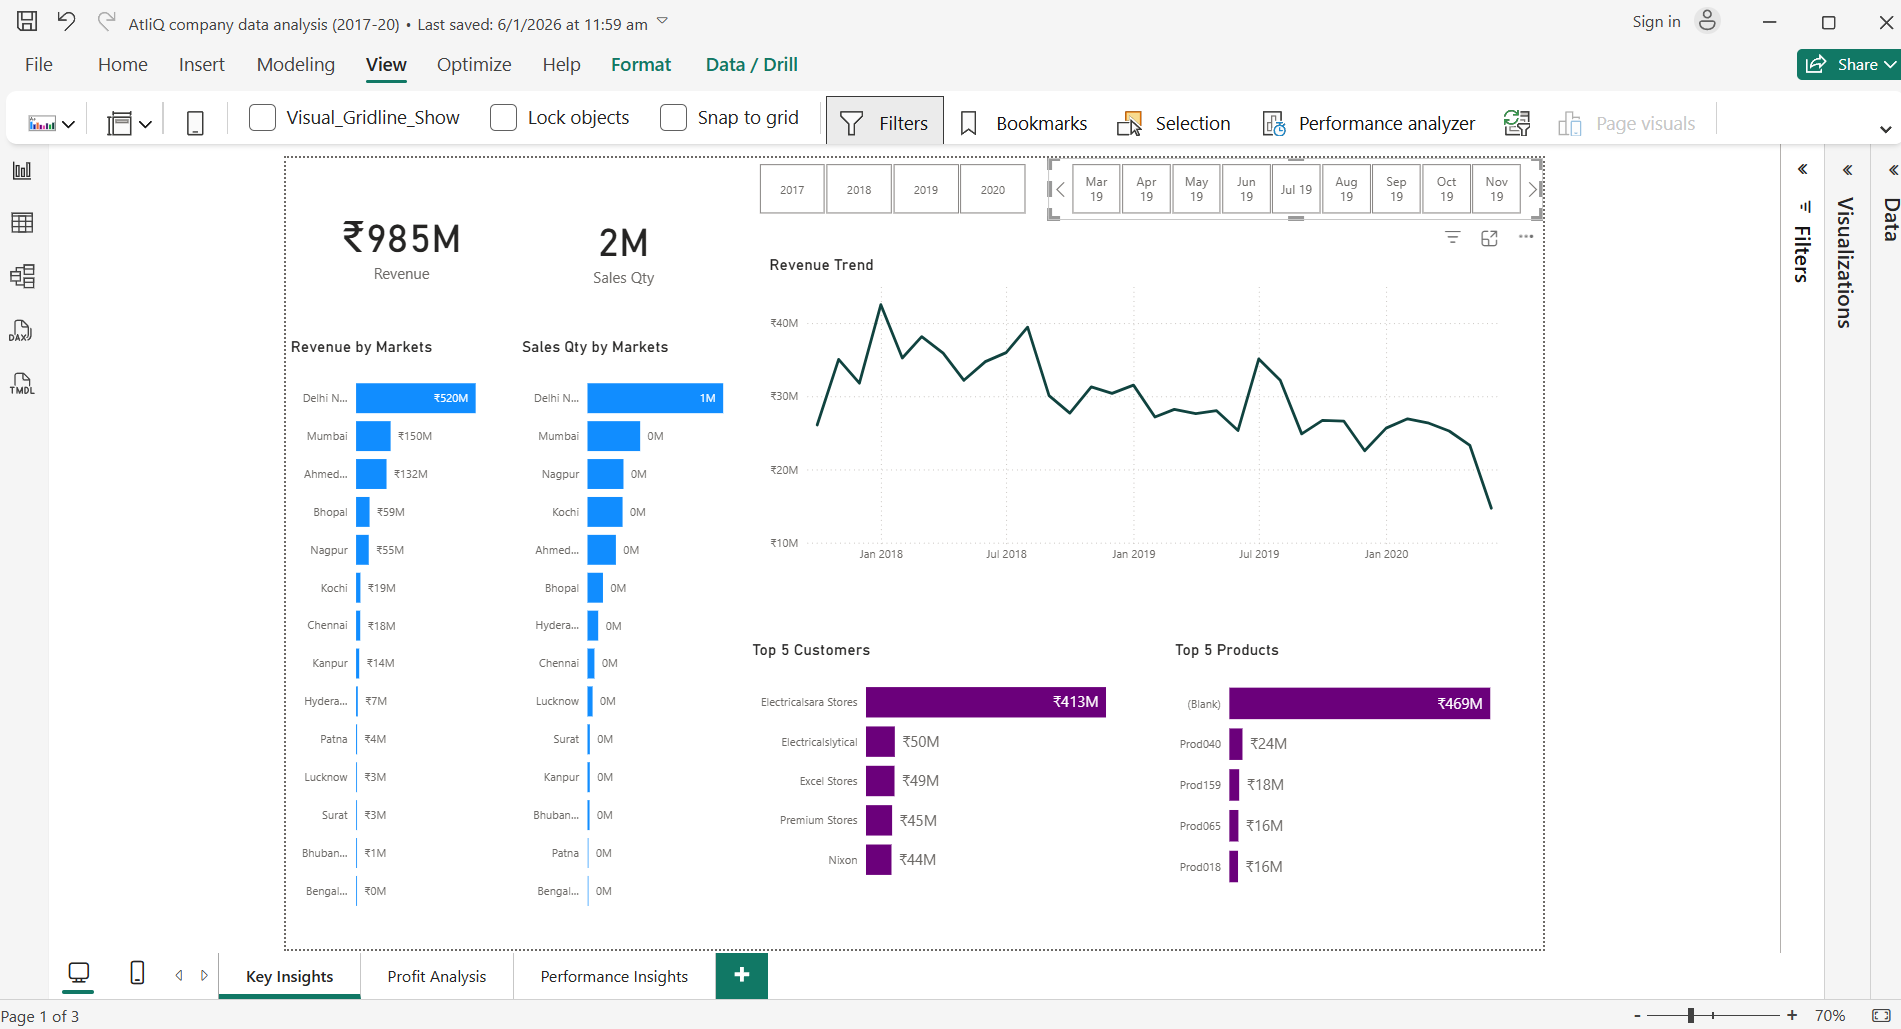

The page's visual inventory and layout, read from the dashboard file:
{"tool":"powerbi","page":{"name":"Key Insights","canvas":[1350,850],"ordinal":0},"visuals":[{"type":"card","fields":{"Values":["BaseMeasures (2).Revenue"]},"box":[0,0,247.9,184.6],"z":0},{"type":"card","fields":{"Values":["BaseMeasures (2).Sales Qty"]},"box":[247.9,0,227.9,193.1],"z":1000},{"type":"barChart","title":"Revenue by Markets","fields":{"Y":["BaseMeasures (2).Revenue"],"Category":["sales markets.markets_name"]},"box":[0,193.1,247.9,631.9],"z":2000},{"type":"barChart","title":"Sales Qty by Markets","fields":{"Y":["BaseMeasures (2).Sales Qty"],"Category":["sales markets.markets_name"]},"box":[247.9,193.1,247.9,631.9],"z":3000},{"type":"slicer","fields":{"Values":["sales date.year"]},"box":[483.2,0,335.5,66.5],"z":4000},{"type":"slicer","fields":{"Values":["sales date.cy_date"]},"box":[818.6,0,531.7,66.5],"z":5000},{"type":"barChart","title":"Top 5 Customers","fields":{"Y":["BaseMeasures (2).Revenue"],"Category":["sales customers.custmer_name"]},"box":[495.8,519,446.2,274.3],"z":6000},{"type":"barChart","title":"Top 5 Products","fields":{"Y":["BaseMeasures (2).Revenue"],"Category":["sales products.product_code"]},"box":[950.7,519.2,399.5,282.8],"z":7000},{"type":"lineChart","title":"Revenue Trend","fields":{"Y":["BaseMeasures (2).Revenue"],"Category":["sales date.cy_date"]},"box":[513.8,104.4,809.1,338.6],"z":8000}]}

Visuals, with their boxes on the page's 1350x850 design canvas (x1, y1, x2, y2). These are canvas units, not pixel positions in the 1901x1029 screenshot, which may show the page scaled, cropped or inside an application window:
card - BaseMeasures (2).Revenue: x1=0 y1=0 x2=248 y2=185
card - BaseMeasures (2).Sales Qty: x1=248 y1=0 x2=476 y2=193
"Revenue by Markets" barChart: x1=0 y1=193 x2=248 y2=825
"Sales Qty by Markets" barChart: x1=248 y1=193 x2=496 y2=825
slicer - sales date.year: x1=483 y1=0 x2=819 y2=66
slicer - sales date.cy_date: x1=819 y1=0 x2=1350 y2=66
"Top 5 Customers" barChart: x1=496 y1=519 x2=942 y2=793
"Top 5 Products" barChart: x1=951 y1=519 x2=1350 y2=802
"Revenue Trend" lineChart: x1=514 y1=104 x2=1323 y2=443
